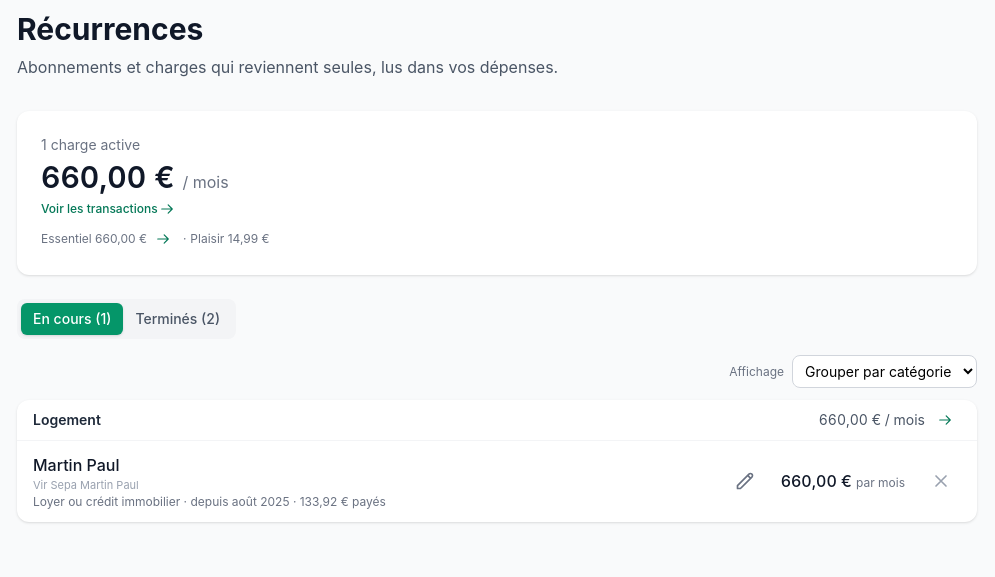
Test: RecurrencesPage › keeps ended charges in their own tab, latest ended first
Click the tab with test id "tab-ended" at (178,319), box [123, 303, 232, 335]
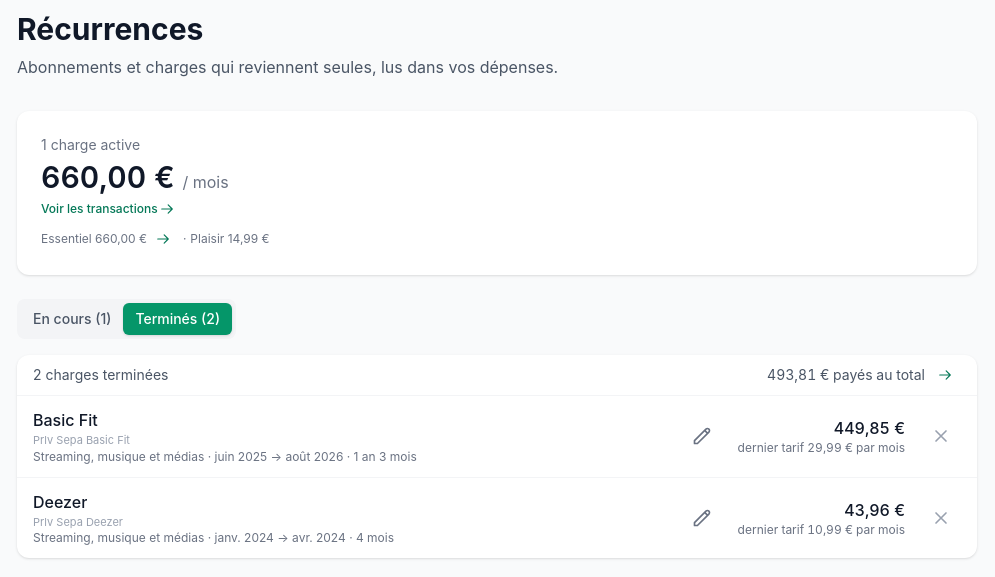
Expected: the element with test id "recurrence-ended" shows "493,81", [767, 366, 925, 383]
Expected: the list item with test id "ended-row" shows "Basic Fit", [33, 408, 674, 464]
Expected: the list item with test id "ended-row" shows "juin 2025 → août 2026", [33, 408, 674, 464]
